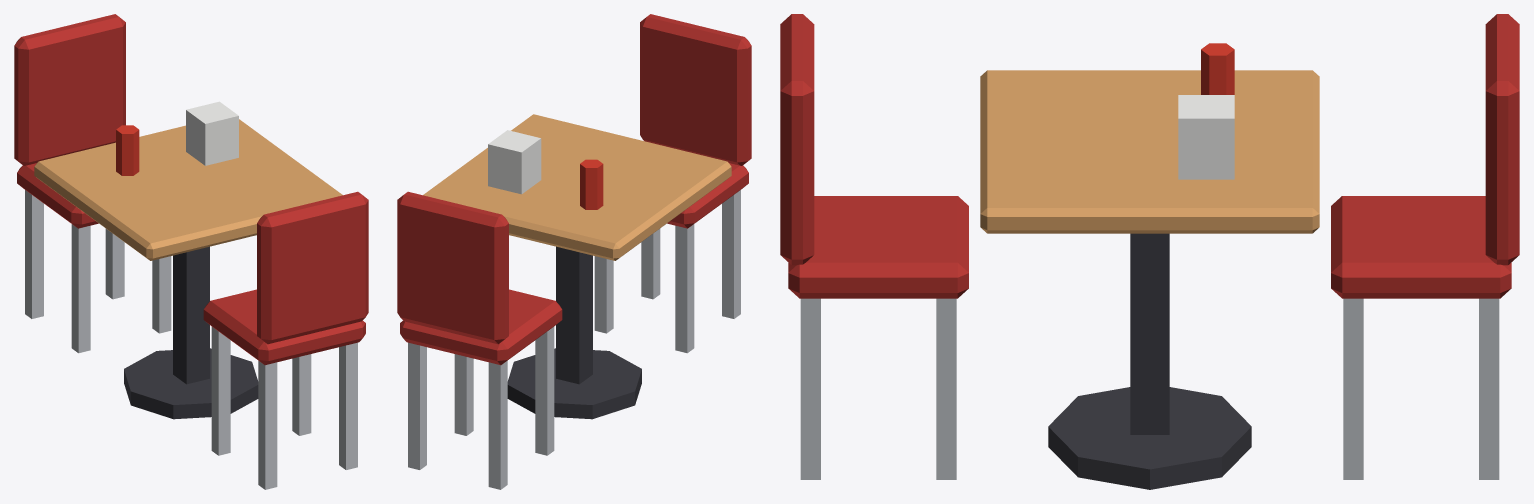
File: RestaurantTable2.fbx
3 views of the same model, side by side, from view 1: azimuth 30°, elevation 25°; view 2: azimuth 150°, elevation 25°; view 3: azimuth 270°, elevation 25° (orthographic). The views are drawn at different scales.
Visible parts, largest first — view 1: RestaurantTable2; view 2: RestaurantTable2; view 3: RestaurantTable2.
Part boxes in pixels (box(x1,y1,x2,y2)): RestaurantTable2: box(14, 14, 368, 489); RestaurantTable2: box(397, 14, 751, 489); RestaurantTable2: box(780, 14, 1519, 489).
Size of the model in its own units: 3 by 3.9 by 6.54.
Materials: 1 (1 with a texture image).
